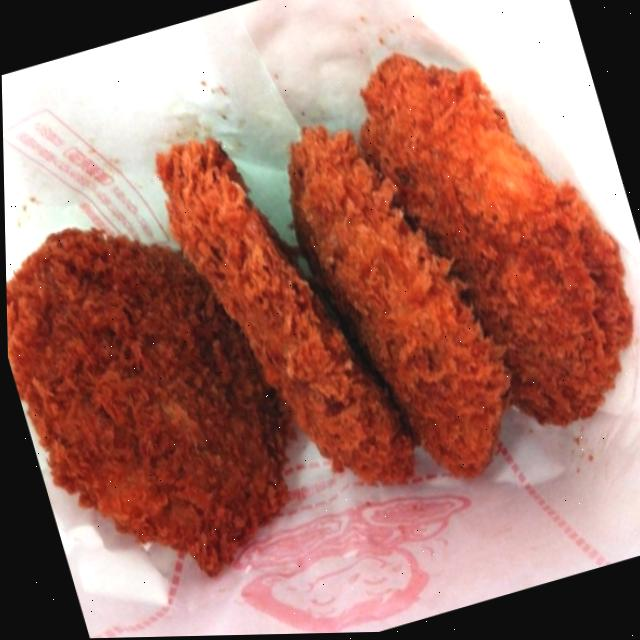炸货点心: (1, 22, 640, 627)
